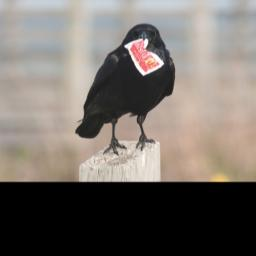Crow: (74, 22, 176, 157)
